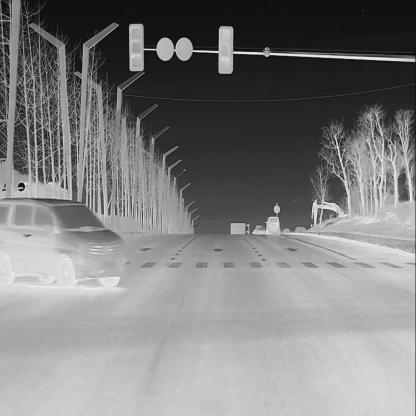car: (0, 197, 127, 290), (265, 216, 280, 234), (254, 224, 265, 235)
